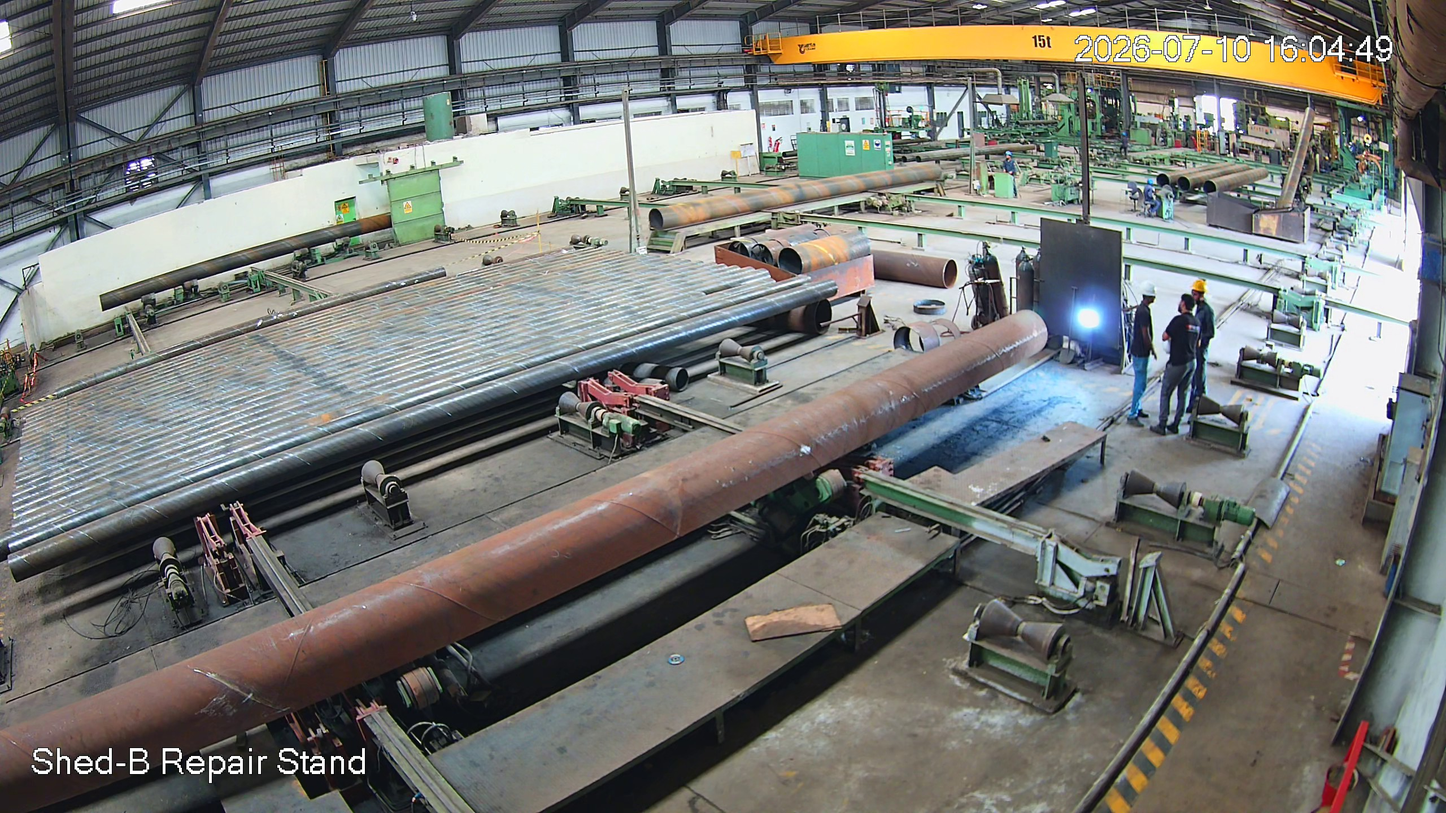Helmet: (1188, 272, 1216, 307), (1135, 275, 1161, 311)
Person: (1126, 280, 1164, 428), (1165, 296, 1202, 432), (1188, 276, 1219, 409)
